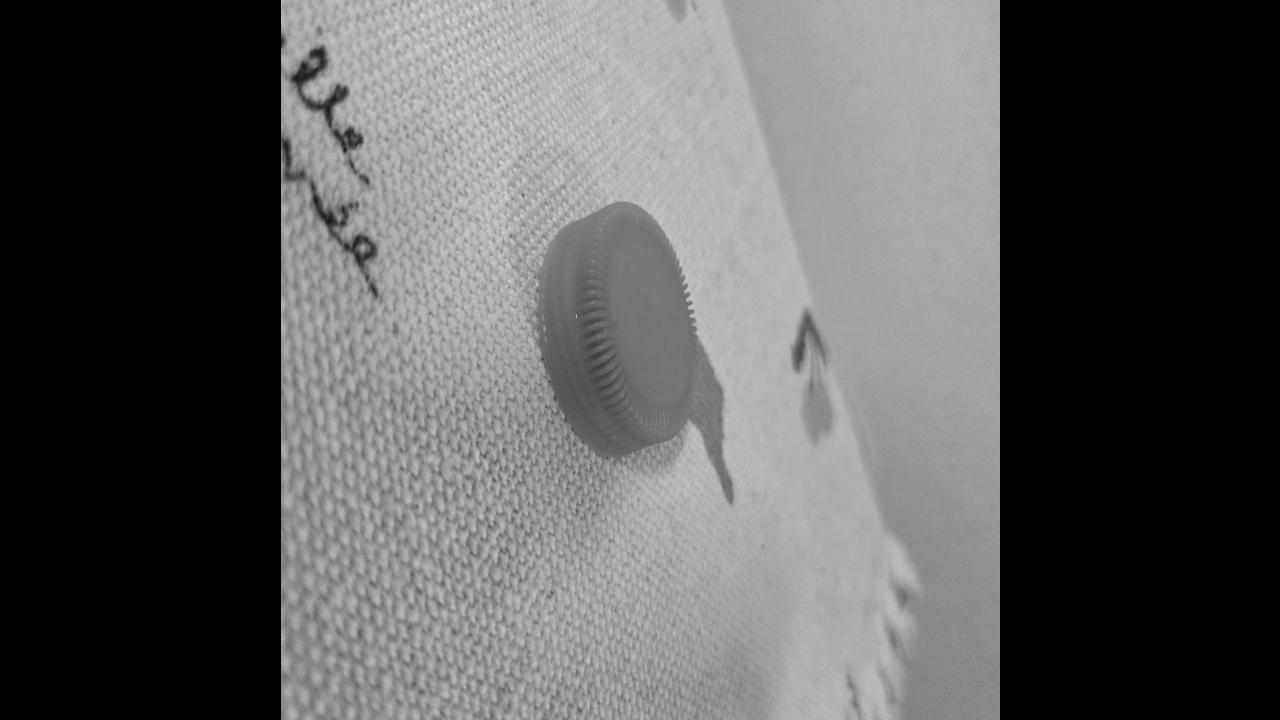bottle_cap: (537, 196, 702, 462)
